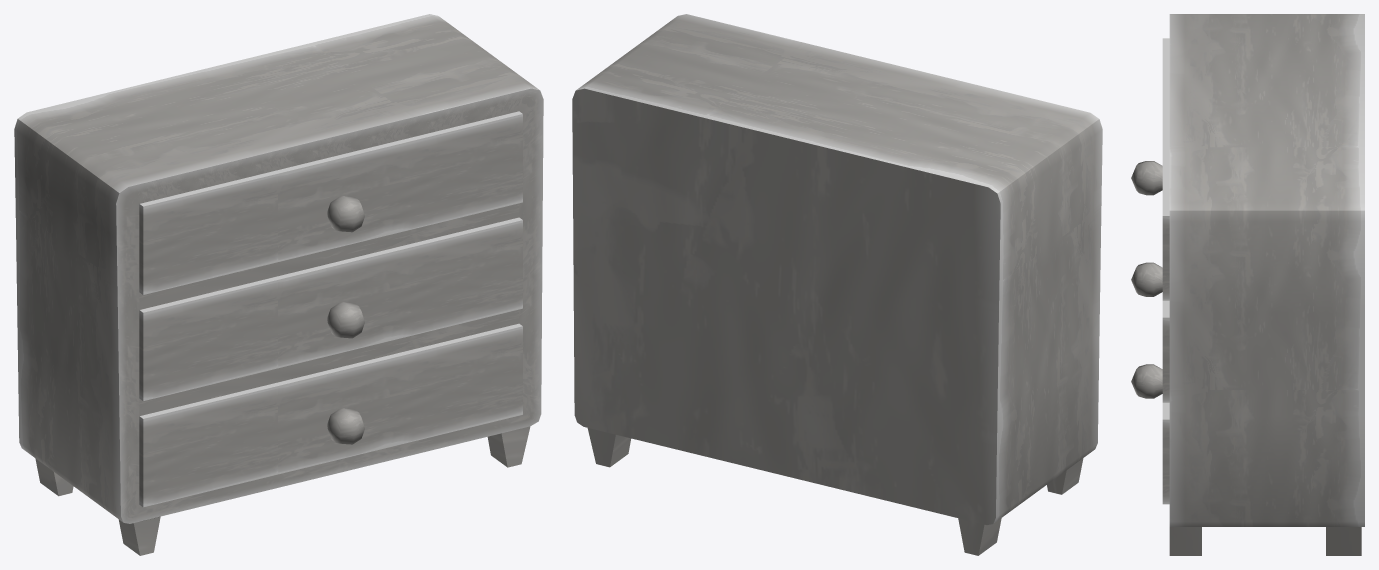
Rendered from schubladenschrank.fbx.
The picture shows the model from 3 angles, left to right: view 1: azimuth 30°, elevation 25°; view 2: azimuth 150°, elevation 25°; view 3: azimuth 270°, elevation 25°; orthographic projection. The views are drawn at different scales.
Parts seen in each view (by area): view 1: 1; view 2: 1; view 3: 1.
Boxes of the visible parts, x1,y1,x2,y2 form: 1: (14,14,543,555); 1: (572,14,1102,555); 1: (1131,14,1364,555).
Size of the model in its own units: 194 by 162 by 95.8.
